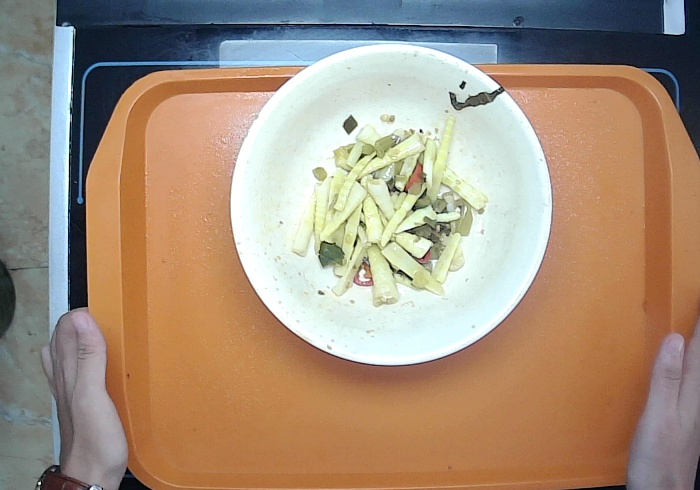ZNLD-Da_Tang_Wan: (227, 41, 555, 368)
